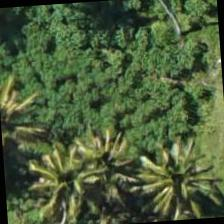Kelapa_Sawit: (59, 118, 155, 214), (28, 135, 125, 223), (131, 150, 223, 223)
